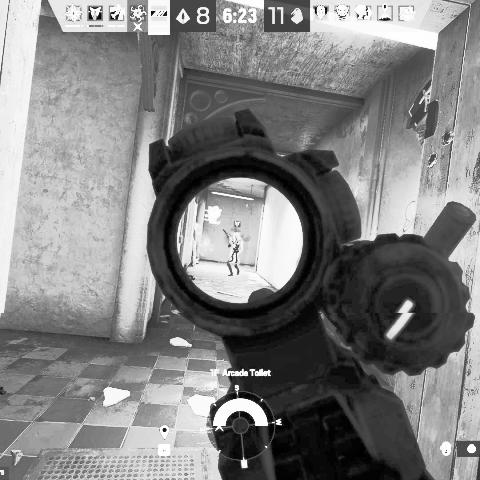Character: (226, 232, 242, 277)
Friend_label: (231, 220, 245, 236)
Head: (233, 233, 240, 239)
